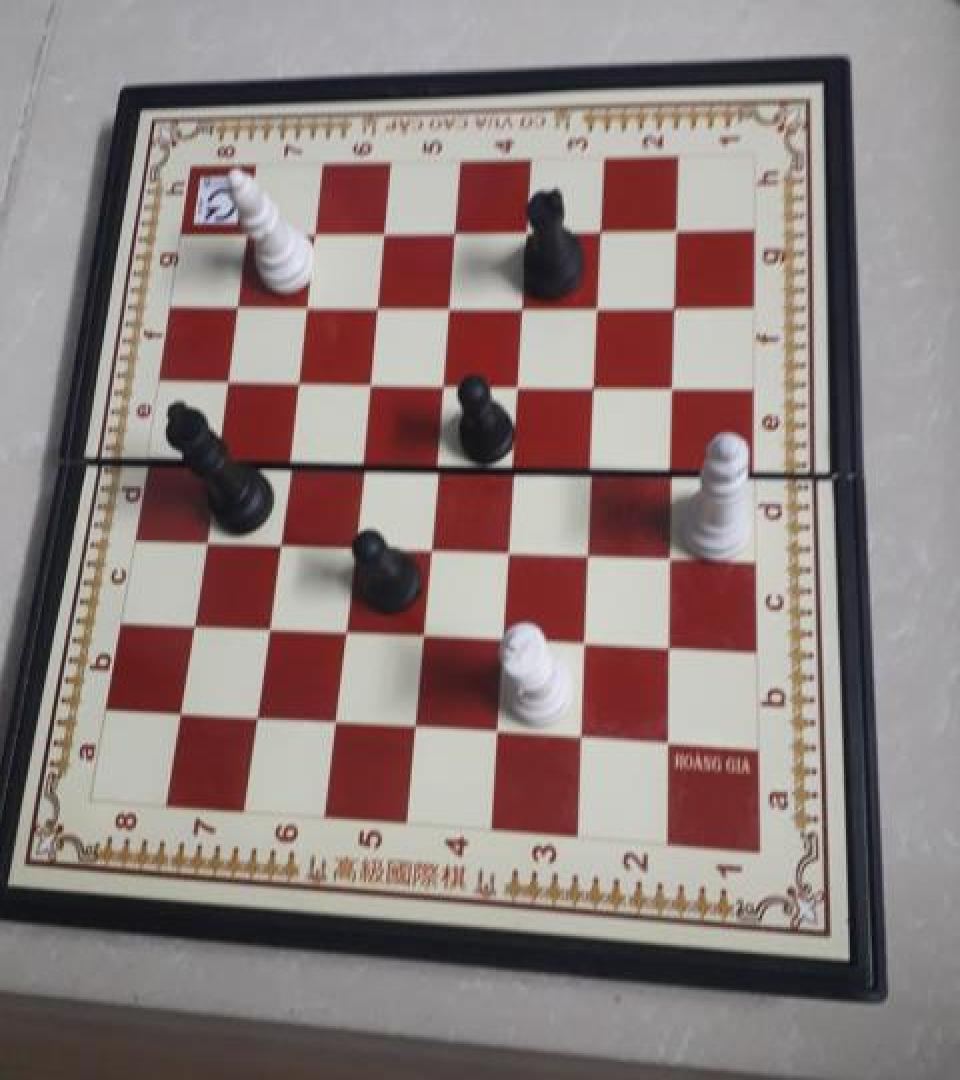xcorner: (167, 695, 195, 727), (323, 704, 351, 736), (487, 714, 515, 746), (571, 720, 599, 752), (657, 724, 685, 756), (179, 606, 207, 638), (332, 613, 360, 645), (492, 621, 520, 653), (575, 625, 603, 657), (659, 630, 687, 662), (191, 522, 219, 554), (265, 524, 293, 556), (497, 533, 525, 565), (578, 535, 606, 567), (203, 441, 231, 473), (275, 442, 303, 474), (349, 444, 377, 476), (581, 450, 609, 482), (661, 452, 689, 484), (214, 363, 242, 395), (285, 364, 313, 396), (584, 369, 612, 401), (663, 370, 691, 402), (224, 289, 252, 321), (294, 289, 322, 321), (365, 289, 393, 321), (437, 290, 465, 322), (511, 290, 539, 322), (587, 290, 615, 322), (664, 291, 692, 323), (234, 218, 262, 250), (303, 217, 331, 249), (372, 217, 400, 249), (443, 217, 471, 249), (516, 216, 544, 248), (590, 216, 618, 248), (665, 216, 693, 248), (244, 700, 272, 731), (404, 709, 432, 740), (255, 610, 283, 641), (411, 618, 439, 649), (341, 528, 369, 559), (418, 530, 446, 561), (660, 539, 688, 570), (425, 447, 453, 478), (502, 448, 530, 479), (357, 366, 385, 397), (431, 367, 459, 398), (507, 368, 535, 399)
